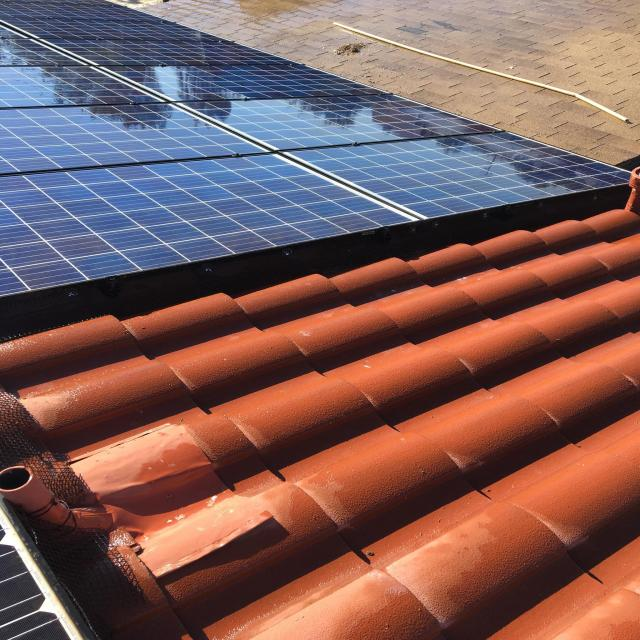clean-solar-panel: (1, 0, 627, 295)
